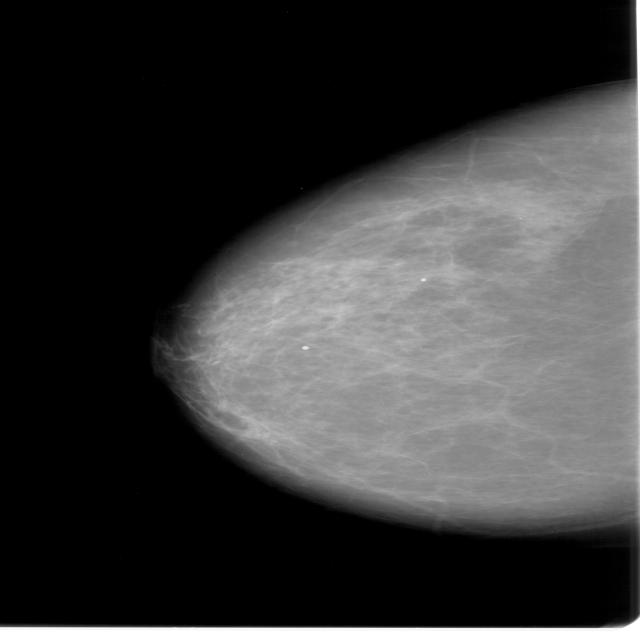normal: (141, 21, 640, 536)
